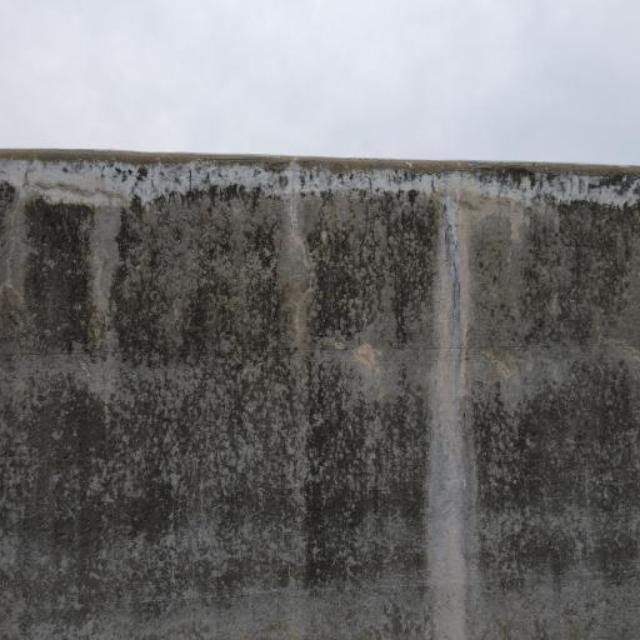D01: (14, 158, 639, 639)
